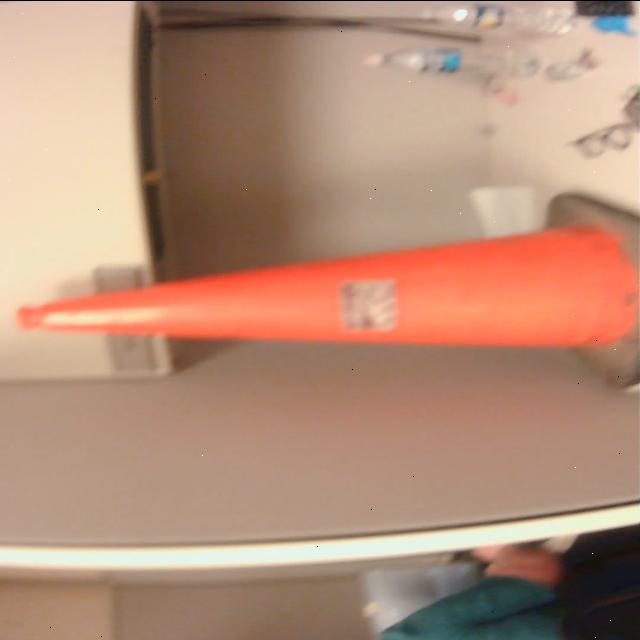traffic cone: (13, 190, 640, 395)
